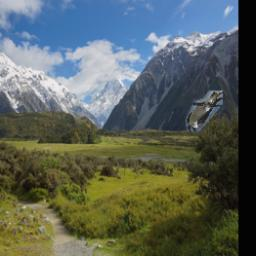Swallow: (186, 90, 223, 132)
